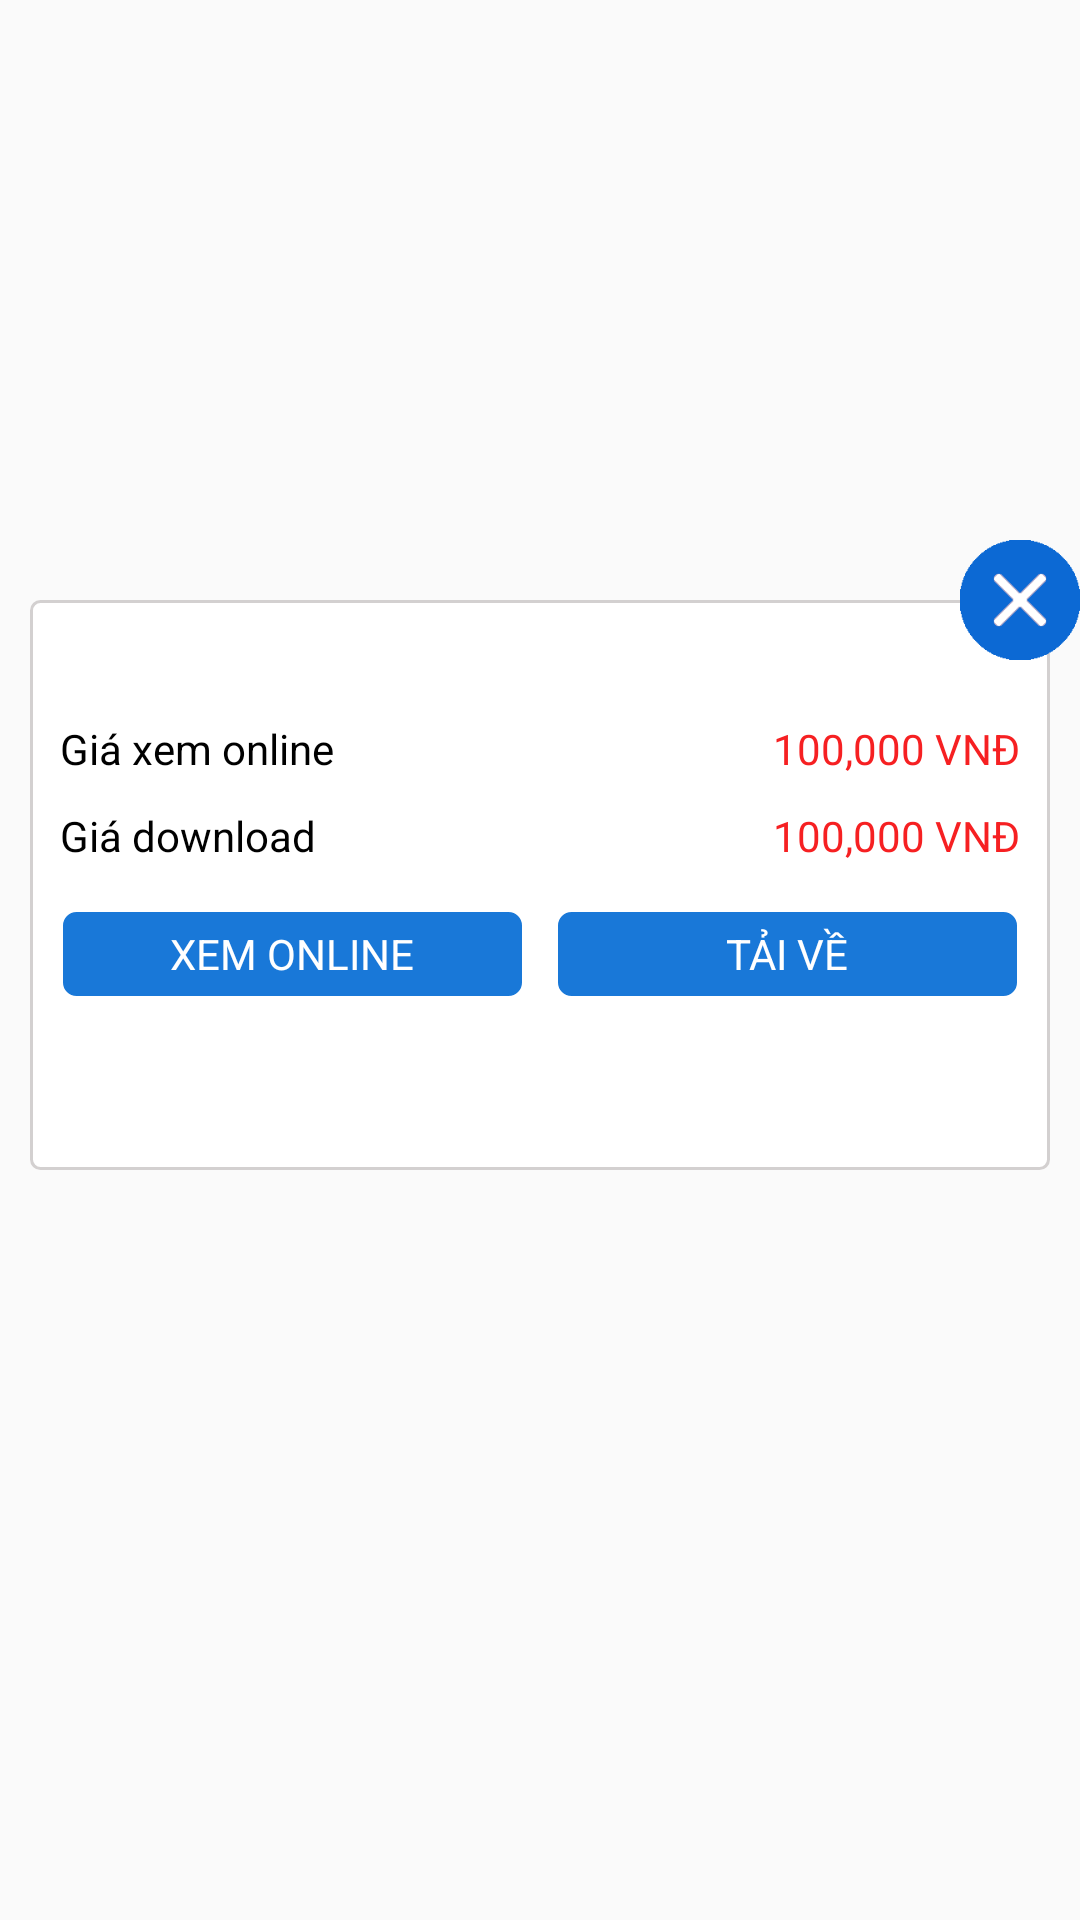

Icons on this 1080px x 1920px Android screen, each with its box as (x1, y1, x2, y2):
close popup: (960, 540, 1080, 660)
